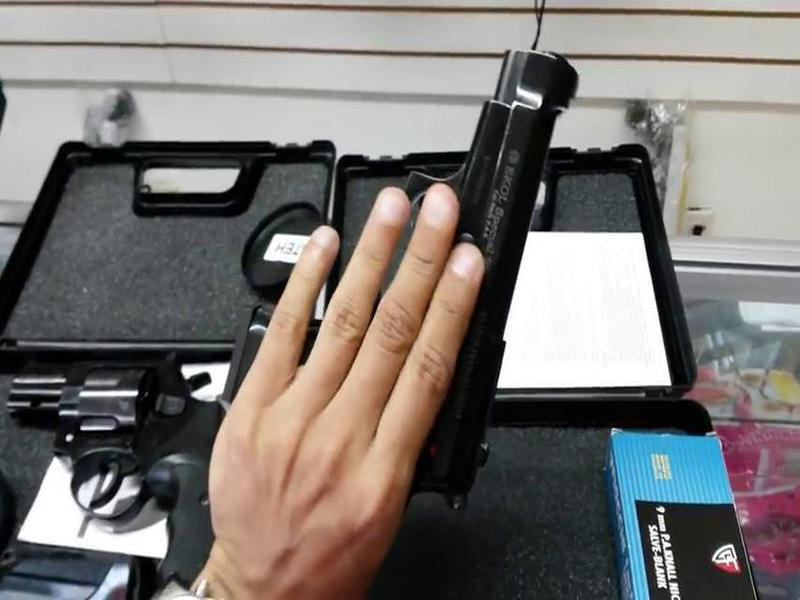Pistola: (271, 36, 613, 515)
